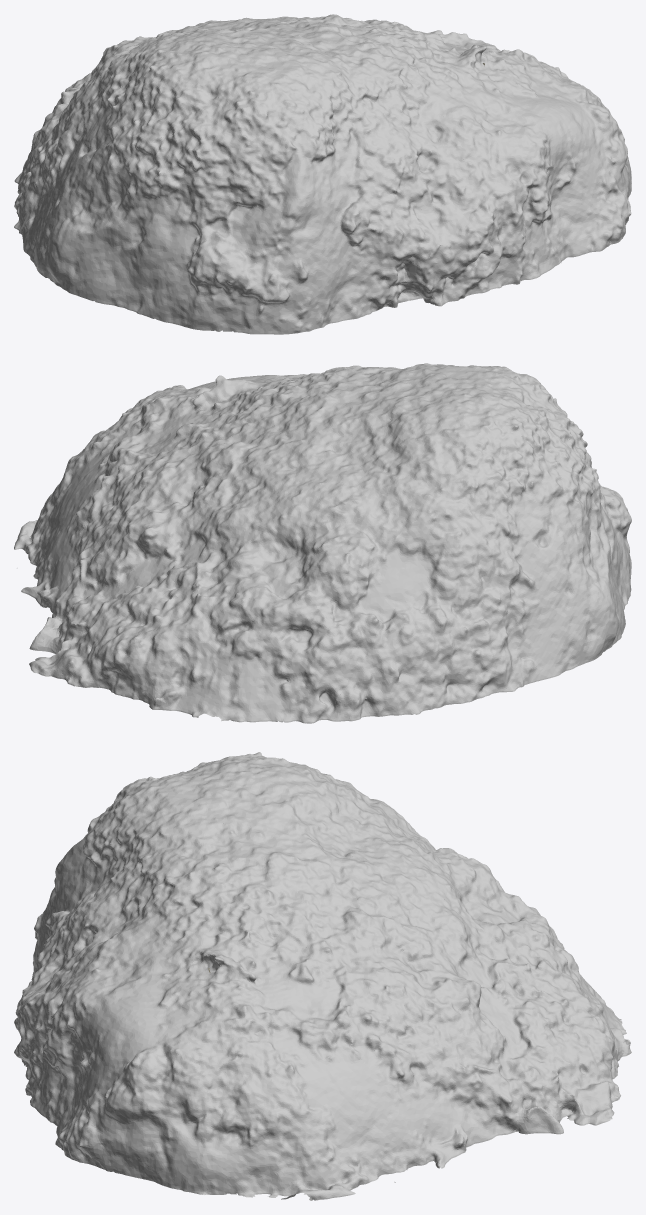
3 views of the same model, one above another, from view 1: azimuth 30°, elevation 25°; view 2: azimuth 150°, elevation 25°; view 3: azimuth 270°, elevation 25° (orthographic). The views are drawn at different scales.
Parts seen in each view (by area): view 1: kivi.001; view 2: kivi.001; view 3: kivi.001.
Boxes of the visible parts, bbox=[...] form: kivi.001: bbox=[14, 14, 631, 334]; kivi.001: bbox=[14, 363, 631, 723]; kivi.001: bbox=[14, 752, 631, 1200].
Size of the model in its own units: 0.9563 by 0.3431 by 0.865.
2 materials, 1 textured.
